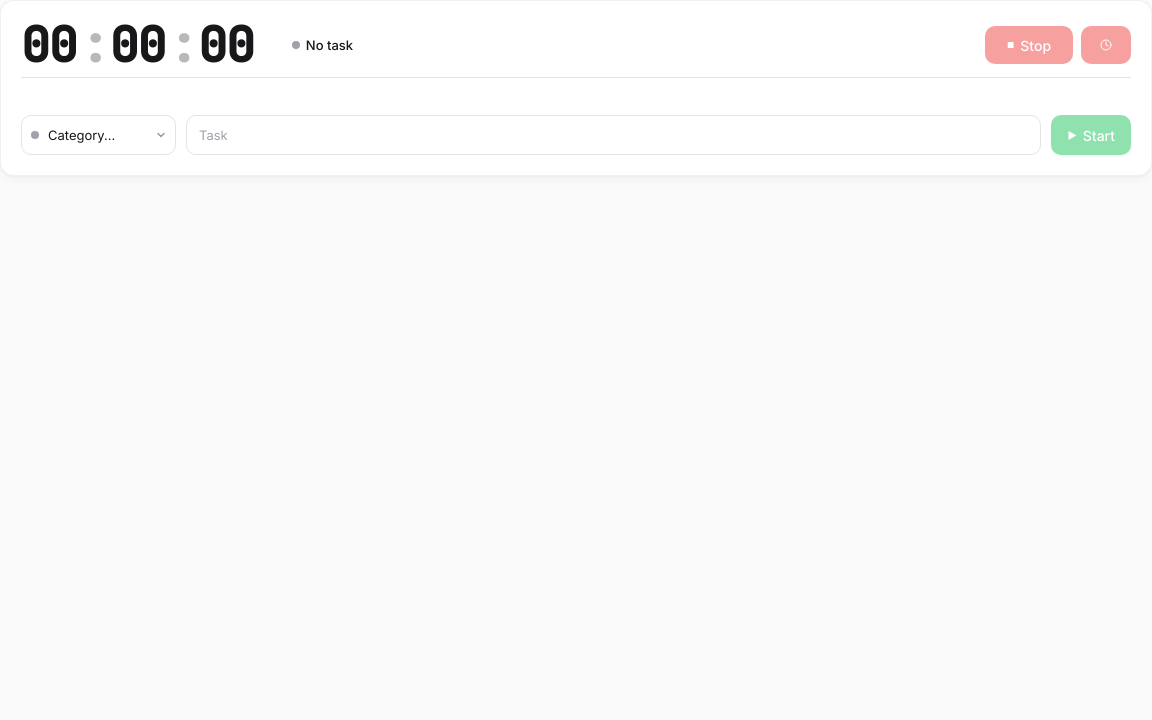
Test: TimeTracker › uses fallback color when all palette colors are used
The width and height of the screenshot is (1152, 720).
# Select new category to trigger color selection
Select "+ New category" in the dropdown at (98, 135), box x1=21 y1=115 x2=176 y2=155
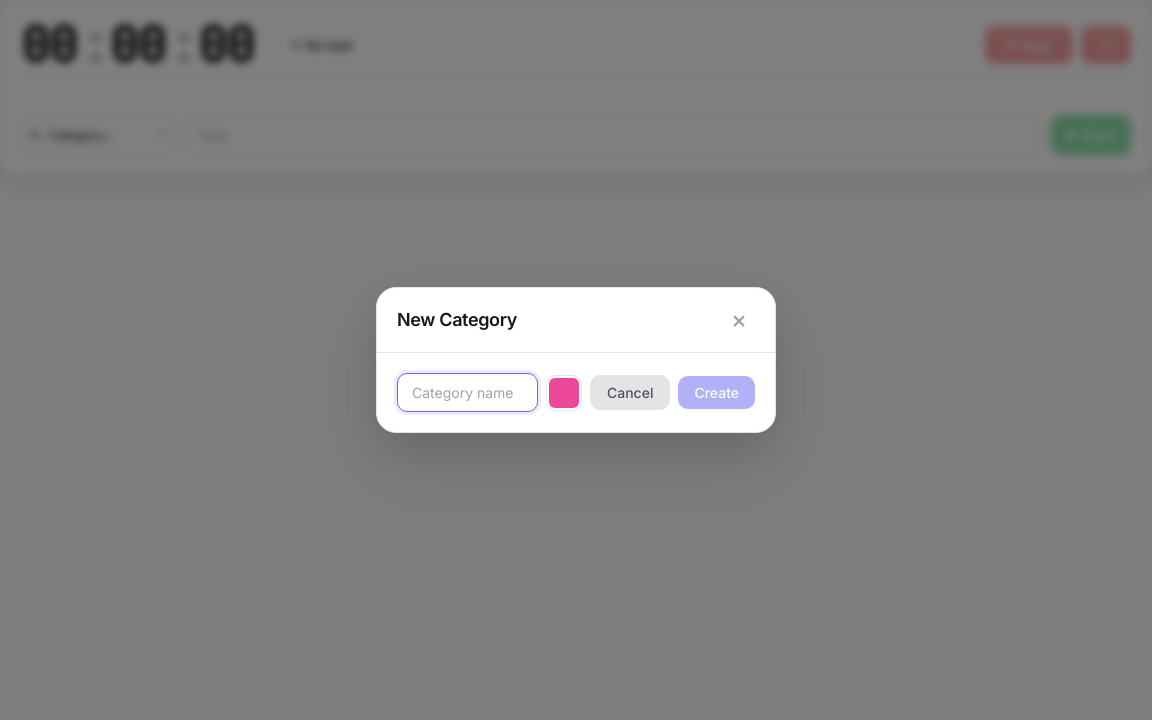
Now the colour field with class "color-picker" is shown, box x1=546 y1=374 x2=582 y2=410
